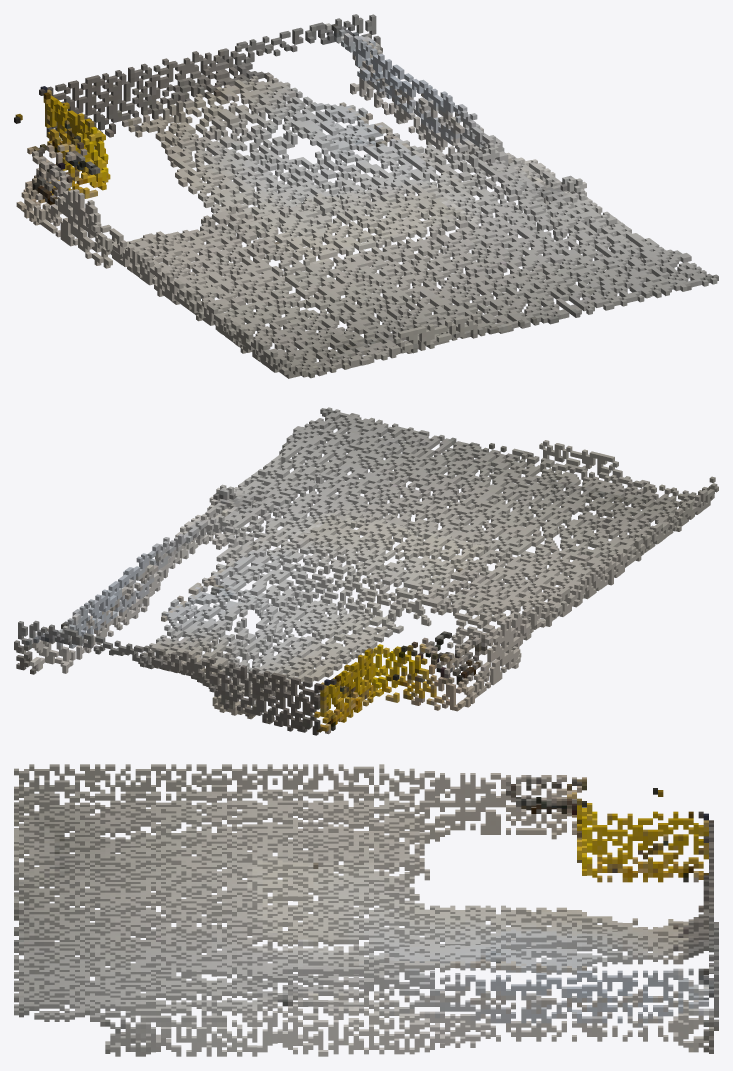
Rendered from Wall_6_E101.gltf.
3 renders of one model, top to bottom at view 1: azimuth 30°, elevation 25°; view 2: azimuth 150°, elevation 25°; view 3: azimuth 270°, elevation 25°, orthographic. The views are drawn at different scales.
Bounding box in the file's own units: 2.44 × 0.3795 × 3.3.
